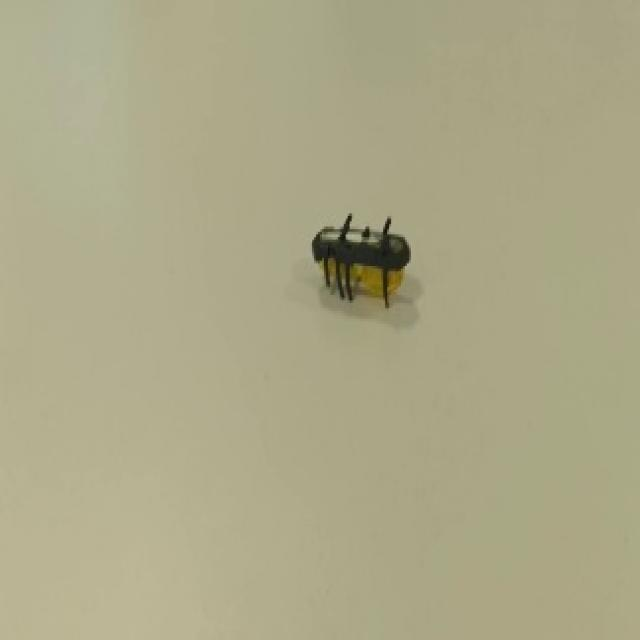6_NanoBug_GrisOscuro: (289, 174, 420, 336)
